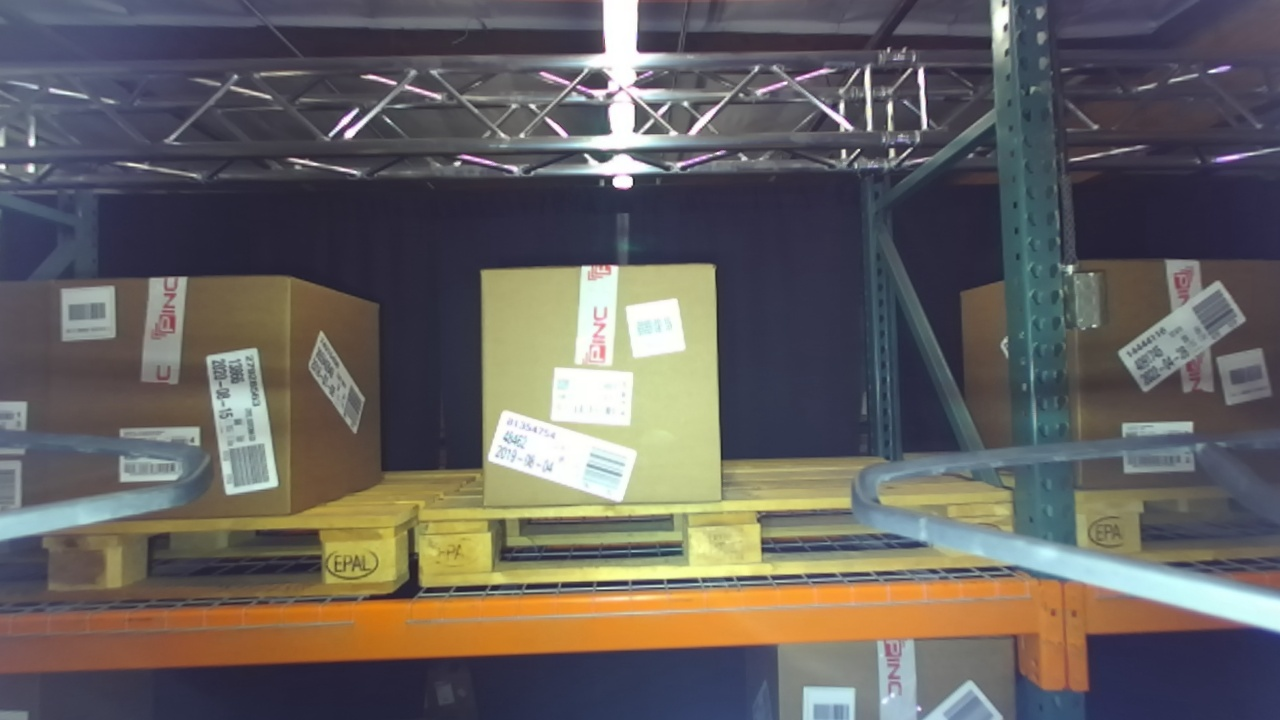box: (42, 264, 322, 552), (457, 249, 737, 515), (1051, 231, 1280, 504)
